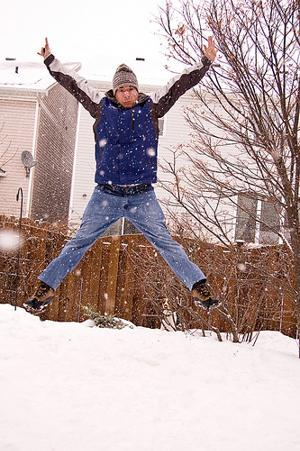person: (29, 38, 222, 314)
